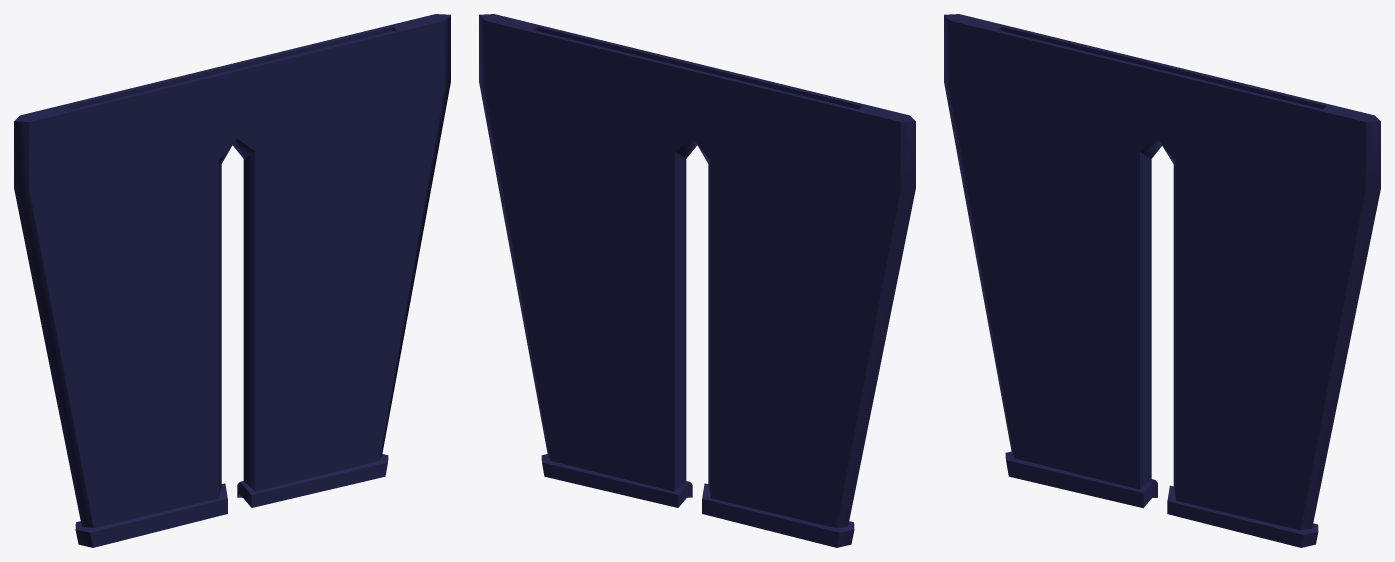
The model's file is pants.fbx.
3 renders of one model, left to right at view 1: azimuth 30°, elevation 25°; view 2: azimuth 150°, elevation 25°; view 3: azimuth 330°, elevation 25°, orthographic.
Parts seen in each view (by area): view 1: pCube4; view 2: pCube4; view 3: pCube4.
Boxes of the visible parts, box(x1,y1,x2,y2) form: pCube4: box(14, 14, 450, 547); pCube4: box(479, 14, 915, 547); pCube4: box(944, 14, 1380, 547).
Bounding box in the file's own units: 52.96 × 50.85 × 3.01.
